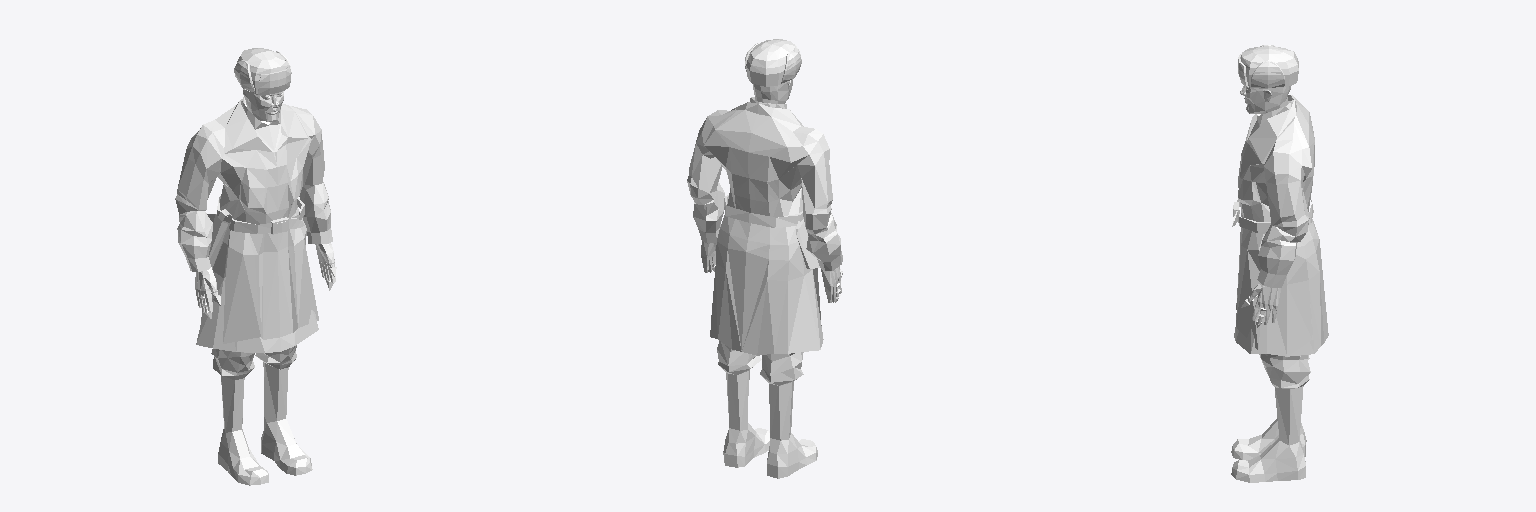
Rendered from Soviet_militia.obj.
3 views of the same model, side by side, from view 1: azimuth 30°, elevation 25°; view 2: azimuth 150°, elevation 25°; view 3: azimuth 270°, elevation 25° (orthographic).
Parts seen in each view (by area): view 1: Bip01; view 2: Bip01; view 3: Bip01.
Boxes of the visible parts, <box> form: Bip01: <box>175,48,336,485</box>; Bip01: <box>687,39,842,478</box>; Bip01: <box>1231,45,1328,482</box>.
Bounding box in the file's own units: 27.91 × 75.05 × 15.95.